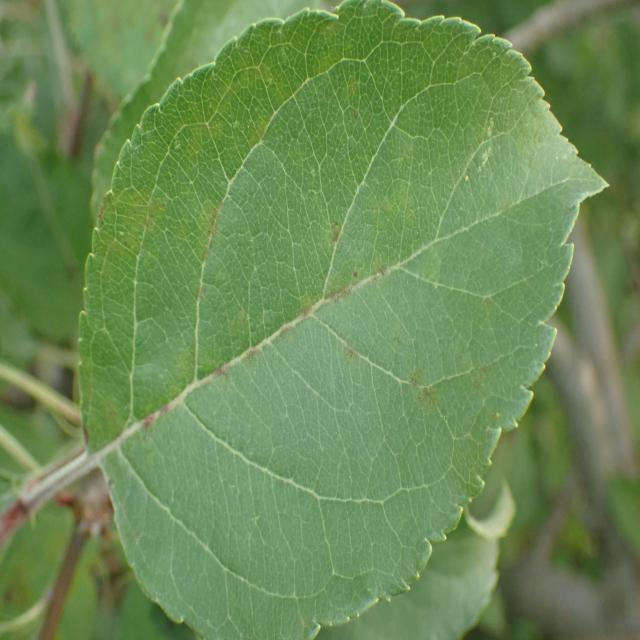scab: (116, 192, 526, 500)
